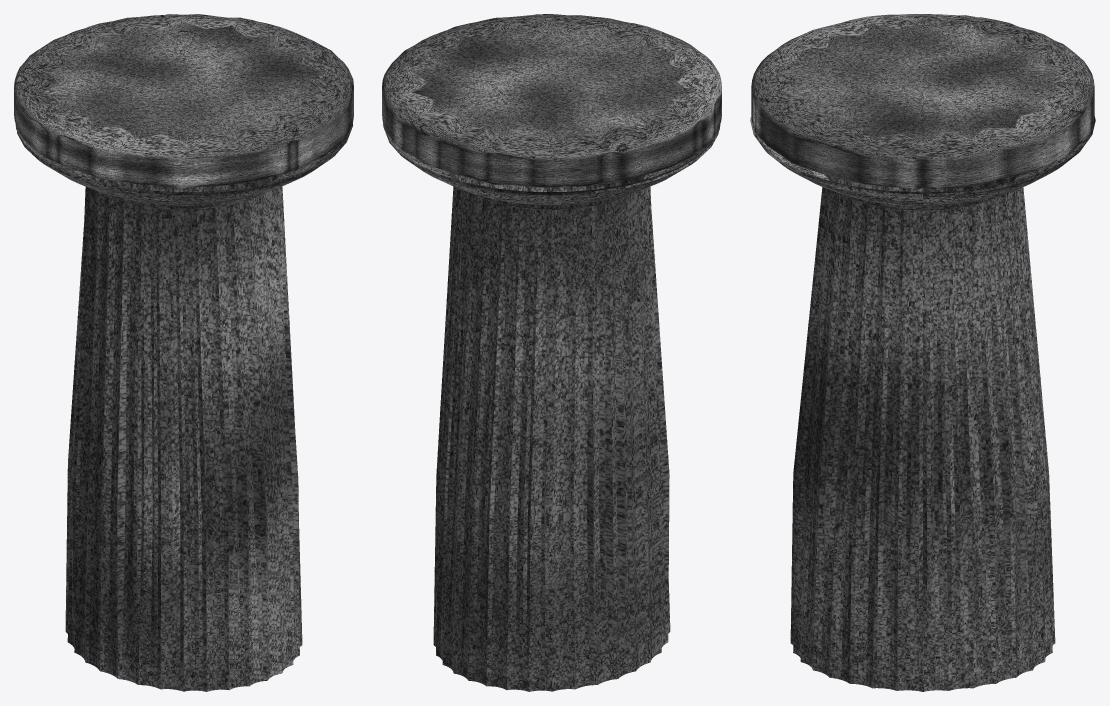
File: pillar.obj
The picture shows the model from 3 angles, left to right: view 1: azimuth 30°, elevation 25°; view 2: azimuth 150°, elevation 25°; view 3: azimuth 270°, elevation 25°; orthographic projection.
Visible parts, largest first — view 1: Component_, Cylinder001; view 2: Component_, Cylinder001; view 3: Component_, Cylinder001.
Boxes of the visible parts, x1=… form: Component_: x1=15, y1=123, x2=352, y2=691; Cylinder001: x1=14, y1=14, x2=353, y2=187; Component_: x1=383, y1=123, x2=720, y2=691; Cylinder001: x1=382, y1=14, x2=721, y2=187; Component_: x1=750, y1=115, x2=1095, y2=691; Cylinder001: x1=751, y1=14, x2=1094, y2=188.
Bounding box in the file's own units: 4.72 × 8.55 × 4.75.
